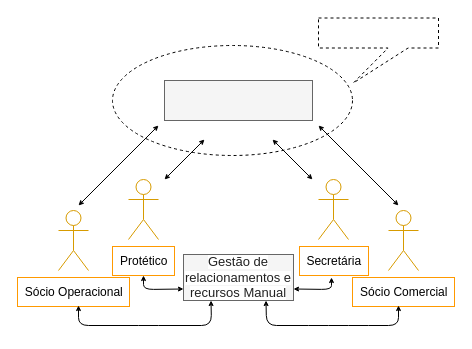
Image size: 472x349. Some labels were removed from this diagram. Here are the shapes that lost their labels. From the top down, the box of each, then its label:
(318, 17, 438, 83): Fronteira Sistêmica
(164, 80, 312, 120): ERP - ArqueSys
